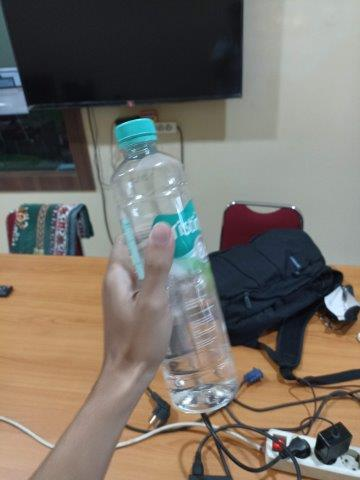botolplastik: (110, 118, 238, 413)
